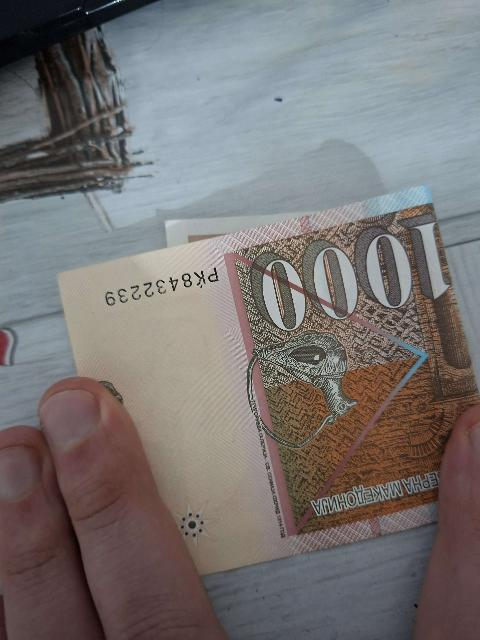1000_note: (60, 188, 477, 572)
